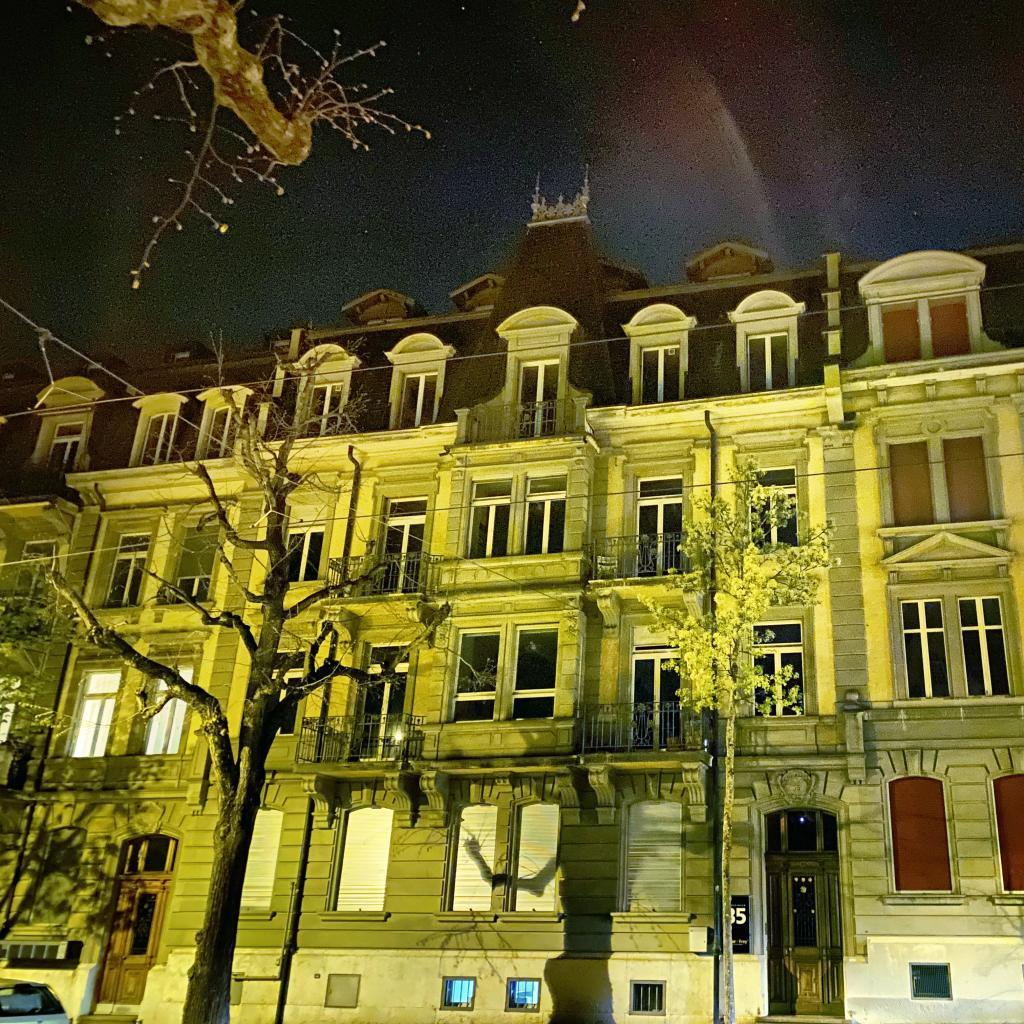balcony-fence: (574, 697, 712, 754), (293, 711, 417, 763), (588, 530, 703, 580), (324, 550, 432, 599), (467, 399, 574, 442)
car: (0, 976, 73, 1024)
facade: (0, 162, 1024, 1024)
vegetation: (1, 310, 505, 1024), (635, 454, 844, 1024), (59, 0, 437, 293)
window: (897, 592, 1015, 700), (447, 621, 559, 723), (884, 432, 995, 526), (463, 468, 569, 559), (886, 773, 953, 892), (349, 641, 413, 761), (629, 621, 686, 749), (622, 793, 683, 911), (331, 802, 396, 911), (878, 293, 974, 364), (445, 798, 501, 911), (27, 824, 88, 926), (241, 648, 309, 736), (133, 660, 194, 755), (511, 798, 561, 912), (372, 494, 428, 594), (750, 618, 807, 716), (2, 540, 58, 633), (66, 667, 123, 757), (636, 474, 684, 576), (164, 522, 222, 604), (748, 464, 800, 555), (101, 531, 153, 608), (279, 503, 329, 582), (992, 771, 1024, 892), (513, 359, 559, 439), (745, 329, 792, 392), (639, 342, 681, 405), (396, 369, 440, 428), (302, 380, 346, 437), (136, 409, 178, 466), (202, 403, 243, 460), (43, 421, 84, 472), (910, 963, 954, 1001), (627, 979, 667, 1017), (324, 974, 360, 1008), (508, 979, 541, 1009), (443, 979, 474, 1007), (0, 372, 14, 388), (274, 339, 290, 351), (174, 351, 190, 362), (86, 361, 99, 373)
